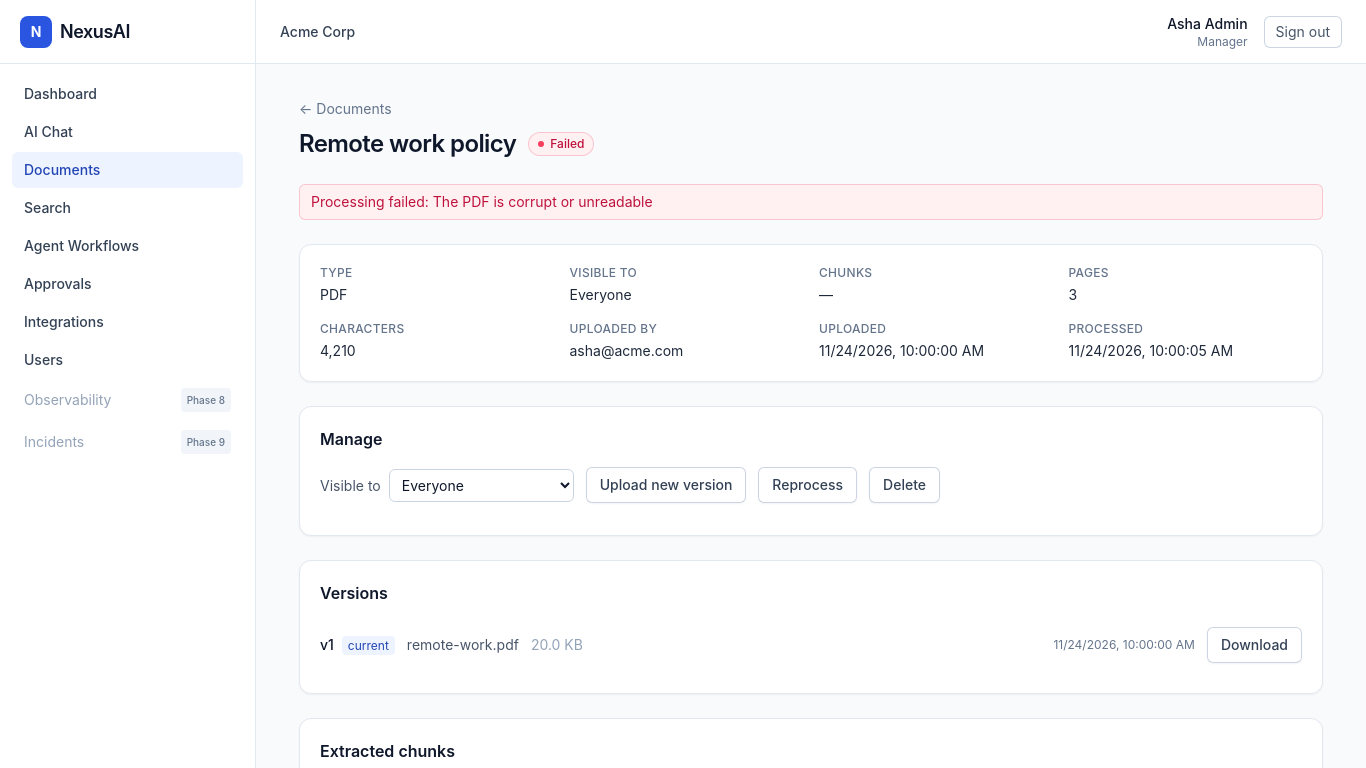
Test case: Document detail page › lets the uploader reprocess a failed document
Expected: the text "Processing failed: The PDF is corrupt or unreadable" is shown, 299,184 -> 1323,220
Step 1. Click the button "Reprocess" → (808, 485), box 758,467 -> 857,503
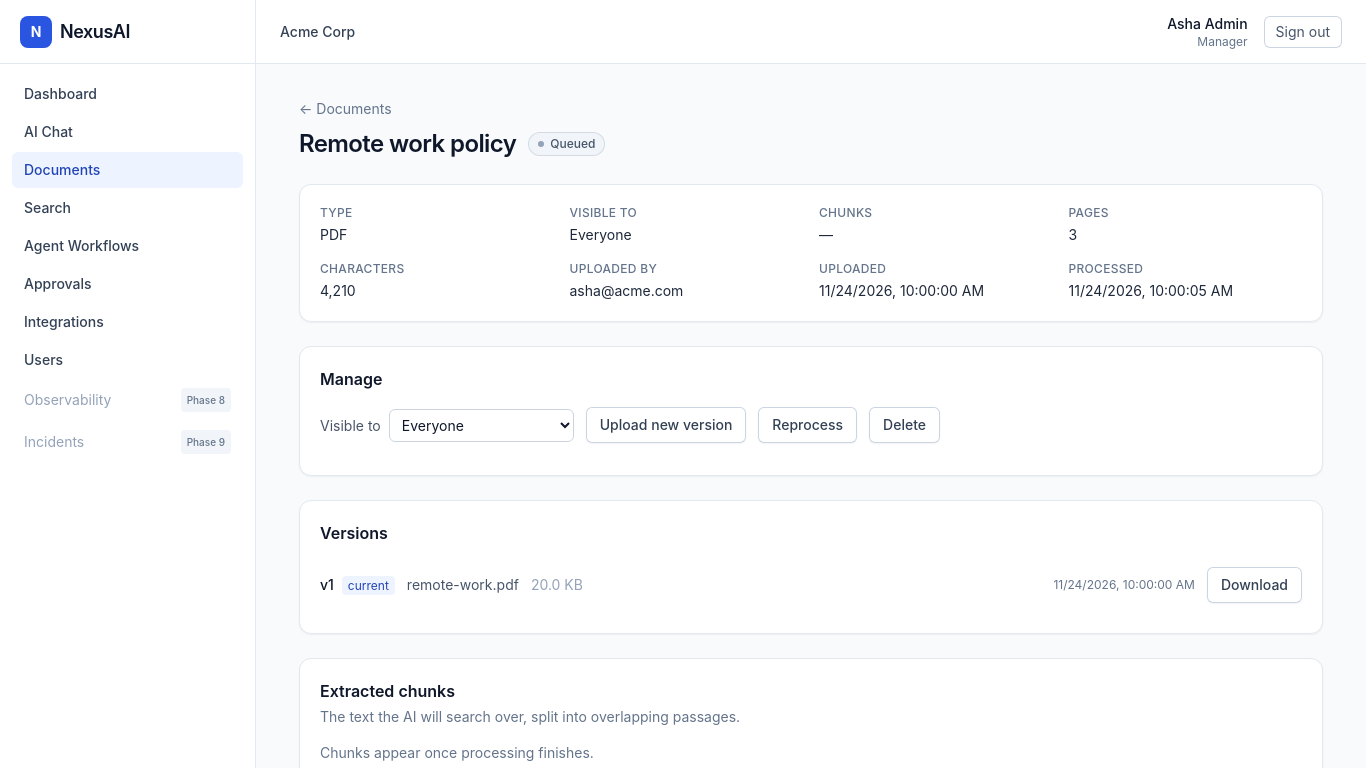
Result: the text "Queued" is shown at 528,132 -> 606,156
